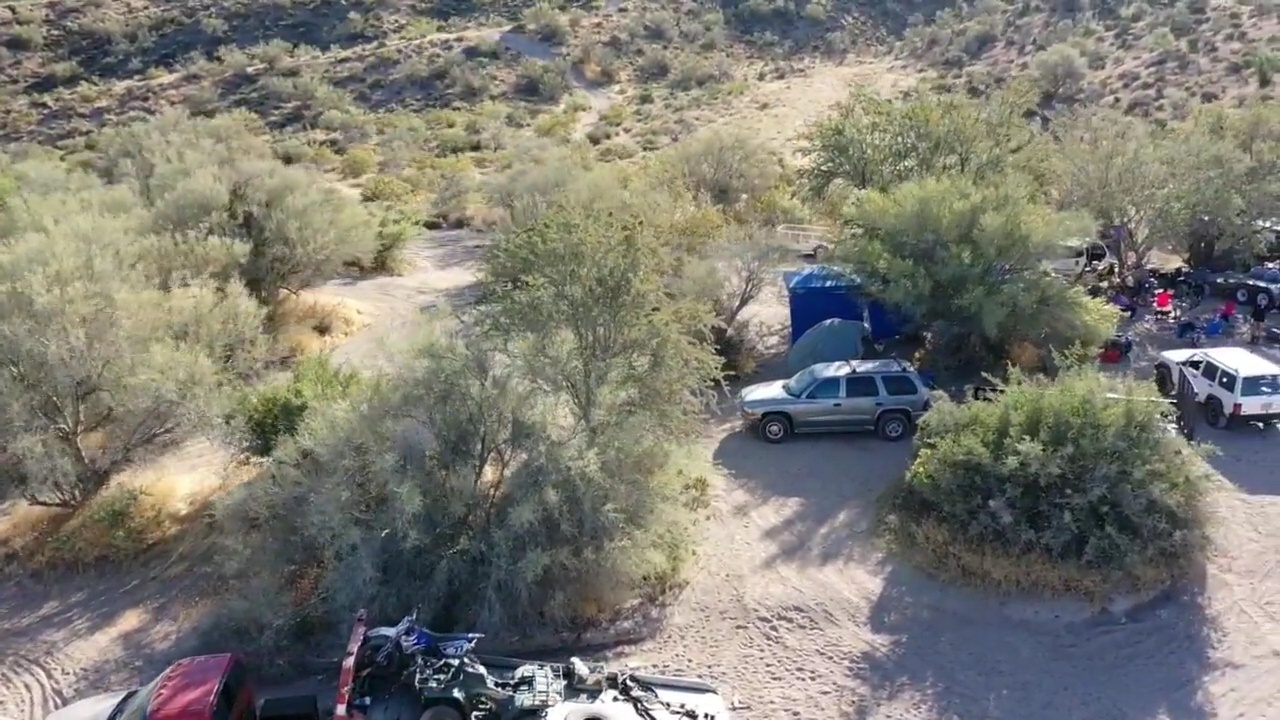araba: (734, 355, 932, 442), (1155, 338, 1280, 433)
insan: (1248, 293, 1272, 346)
